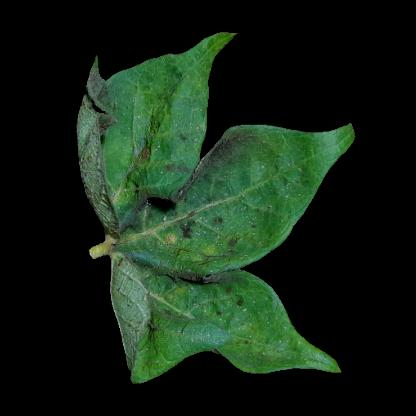curl_stage1: (133, 78, 184, 139), (269, 140, 327, 174), (228, 318, 269, 348), (176, 243, 218, 260)
curl_stage2: (85, 102, 109, 197), (114, 280, 142, 350)
sooty: (175, 265, 249, 317), (181, 136, 230, 214), (108, 200, 154, 238)
